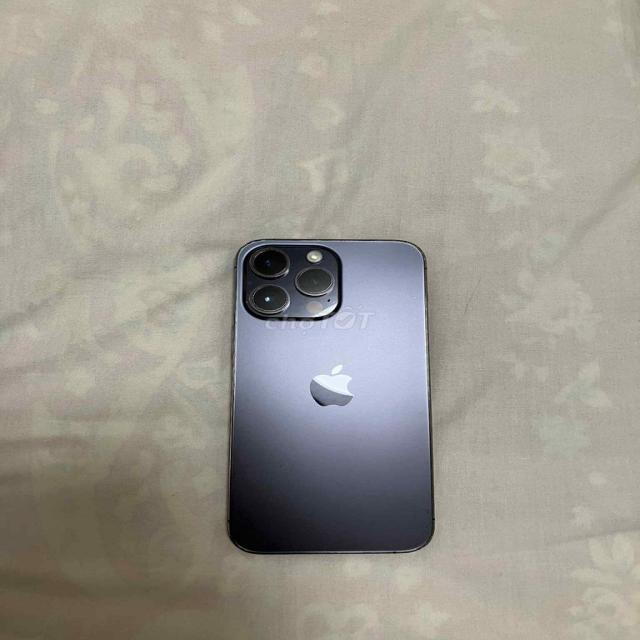gen_14: (226, 236, 445, 559)
